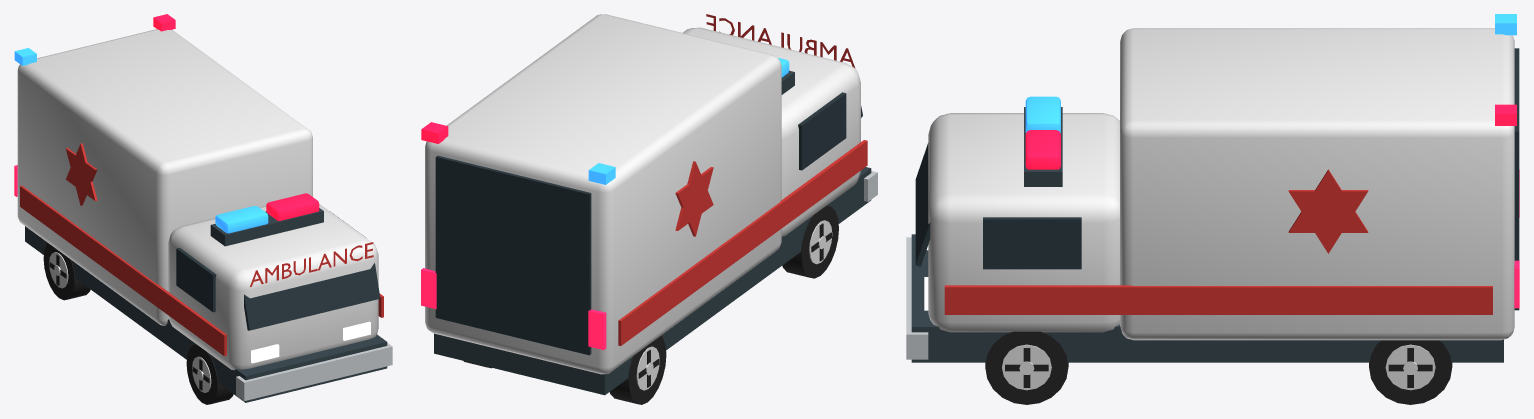
File: roadevents_ambulance.glb
3 views of the same model, side by side, from view 1: azimuth 30°, elevation 25°; view 2: azimuth 150°, elevation 25°; view 3: azimuth 270°, elevation 25° (orthographic). The views are drawn at different scales.
Parts seen in each view (by area): view 1: Ambulance_body, Wheel_FR.002, Wheel_RR.003; view 2: Ambulance_body, Wheel_FR.002, Wheel_RR.003; view 3: Ambulance_body, Wheel_FL.002, Wheel_RL.003.
Part boxes in pixels (left/top/right/bottom): Ambulance_body: left=14, top=14, right=392, bottom=402; Wheel_FR.002: left=186, top=344, right=233, bottom=404; Wheel_RR.003: left=43, top=243, right=90, bottom=300; Ambulance_body: left=421, top=14, right=877, bottom=395; Wheel_FR.002: left=782, top=205, right=838, bottom=278; Wheel_RR.003: left=609, top=336, right=666, bottom=404; Ambulance_body: left=906, top=14, right=1519, bottom=362; Wheel_FL.002: left=985, top=331, right=1068, bottom=404; Wheel_RL.003: left=1369, top=340, right=1452, bottom=404.
Bounding box in the file's own units: 2.28 × 2.96 × 5.6.
